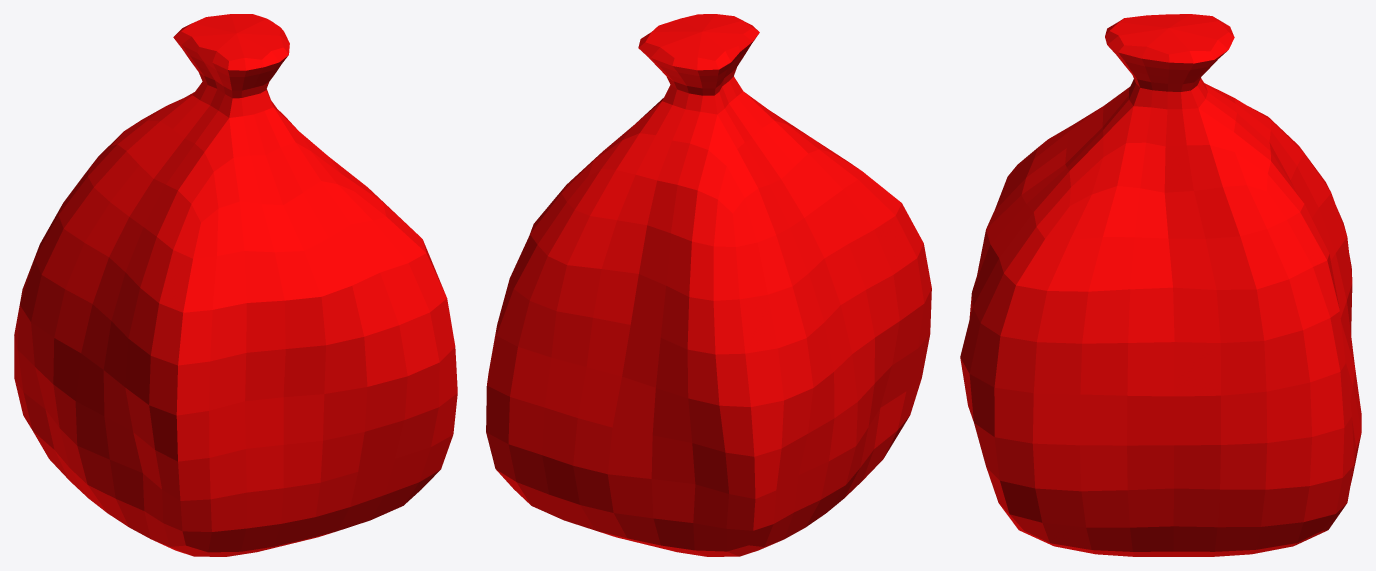
File: umgebung_muellsack_low.FBX
The picture shows the model from 3 angles, left to right: view 1: azimuth 30°, elevation 25°; view 2: azimuth 150°, elevation 25°; view 3: azimuth 270°, elevation 25°; orthographic projection. The views are drawn at different scales.
Visible parts, largest first — view 1: o_muellsack_low; view 2: o_muellsack_low; view 3: o_muellsack_low.
Boxes of the visible parts, box(x1,y1,x2,y2) form: o_muellsack_low: box(14, 14, 457, 556); o_muellsack_low: box(486, 14, 931, 556); o_muellsack_low: box(960, 14, 1361, 556).
Size of the model in its own units: 94.95 by 103 by 143.
